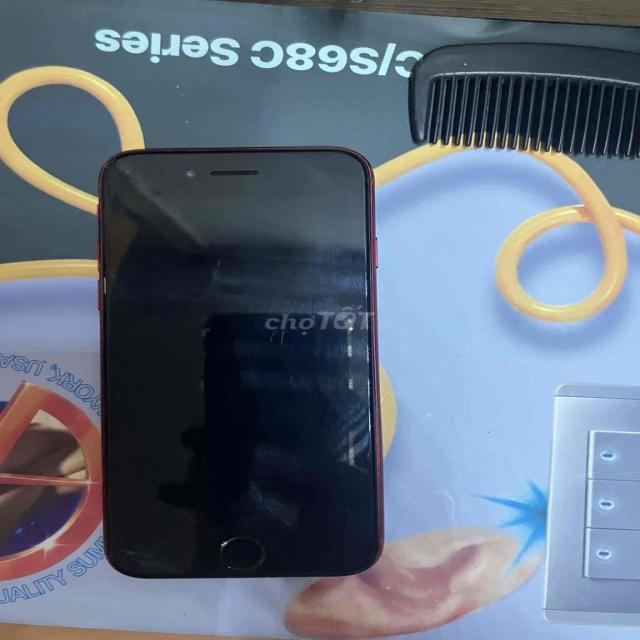scratch: (213, 535, 271, 569), (118, 166, 134, 174)
